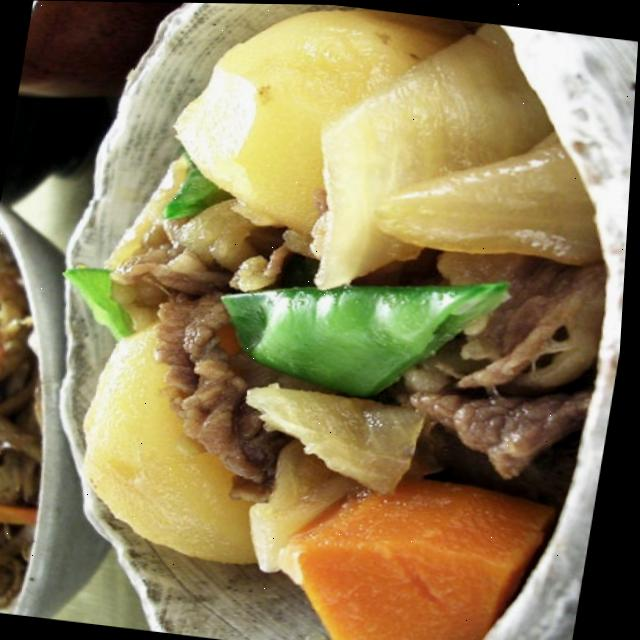牛肉菜式: (3, 0, 640, 640)
